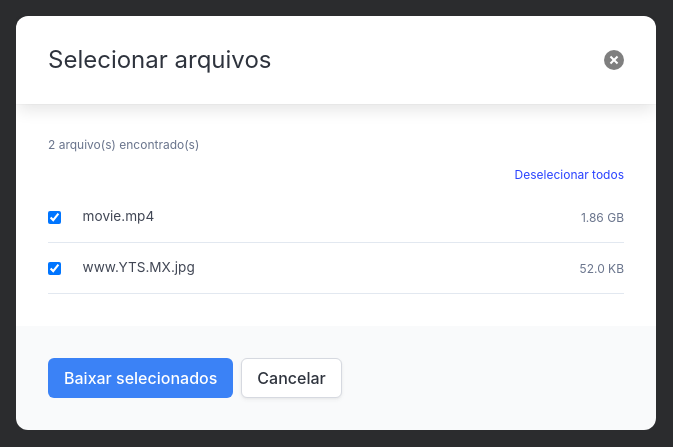
TorrentFilesModal › toggleAll deselects all when all are selected
The image size is (673, 447).
Click the link with class "is-size-7" showing "Deselecionar todos" at (569, 175), box [514,166,624,184]
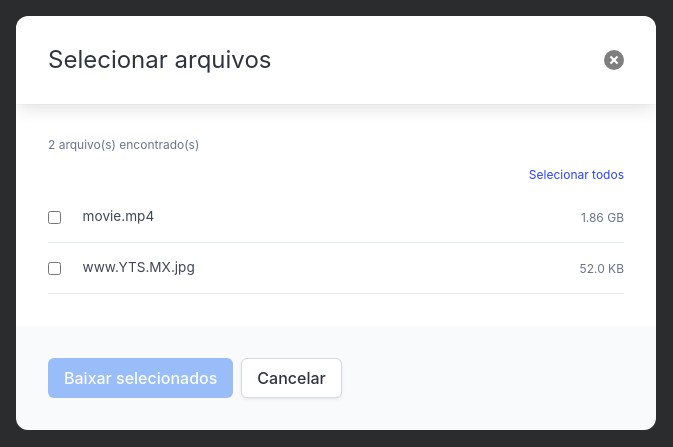
Check: the checkbox labelled "movie.mp4 1.86 GB" is not checked, box [48,210,61,224]
Check: the checkbox labelled "www.YTS.MX.jpg 52.0 KB" is not checked, box [48,262,61,274]
